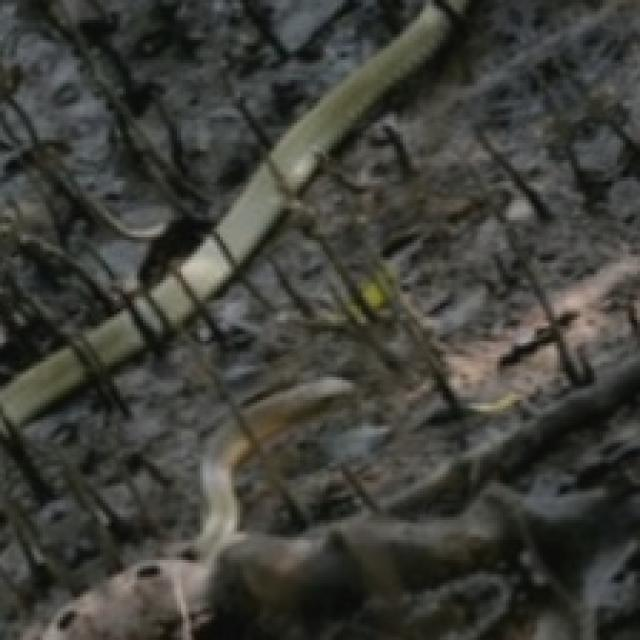king cobra: (2, 4, 451, 426), (194, 376, 353, 563)
